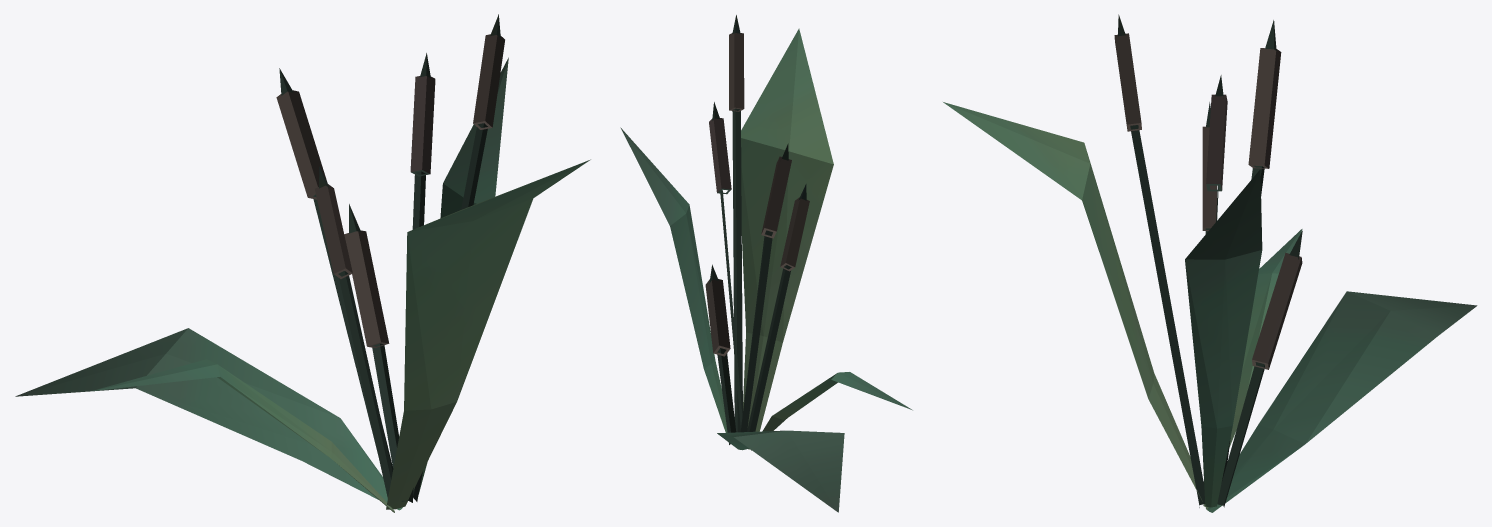
File: SM_Reeds_02.fbx
3 renders of one model, left to right at view 1: azimuth 30°, elevation 25°; view 2: azimuth 150°, elevation 25°; view 3: azimuth 270°, elevation 25°, orthographic. The views are drawn at different scales.
Visible parts, largest first — view 1: Plane.004; view 2: Plane.004; view 3: Plane.004.
Part boxes in pixels (x1,y1,x2,y2): Plane.004: (15, 14, 590, 512); Plane.004: (620, 15, 912, 512); Plane.004: (943, 14, 1477, 512).
Size of the model in its own units: 162 by 200 by 185.
1 material, 1 textured.
